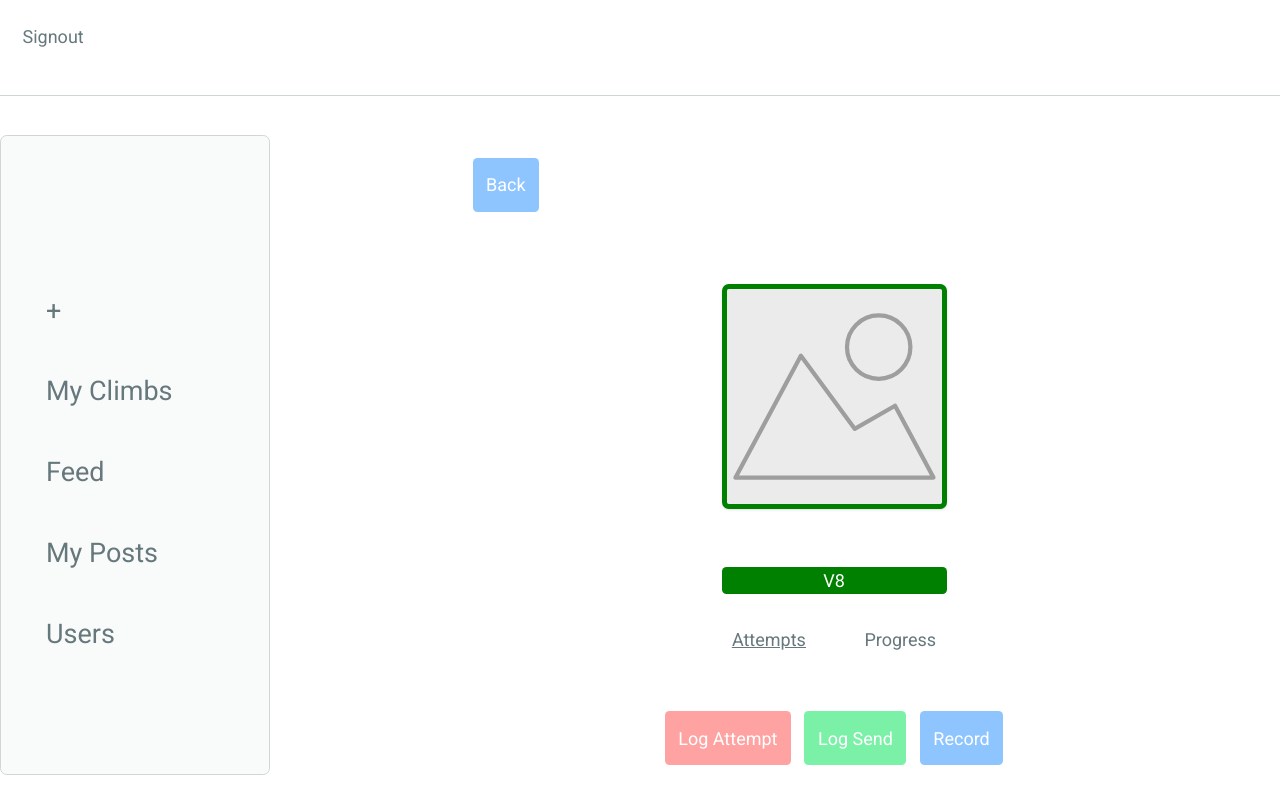
Test: attempts rendering › record modal works
Click the button "Record" at (962, 738), box [920, 711, 1003, 765]
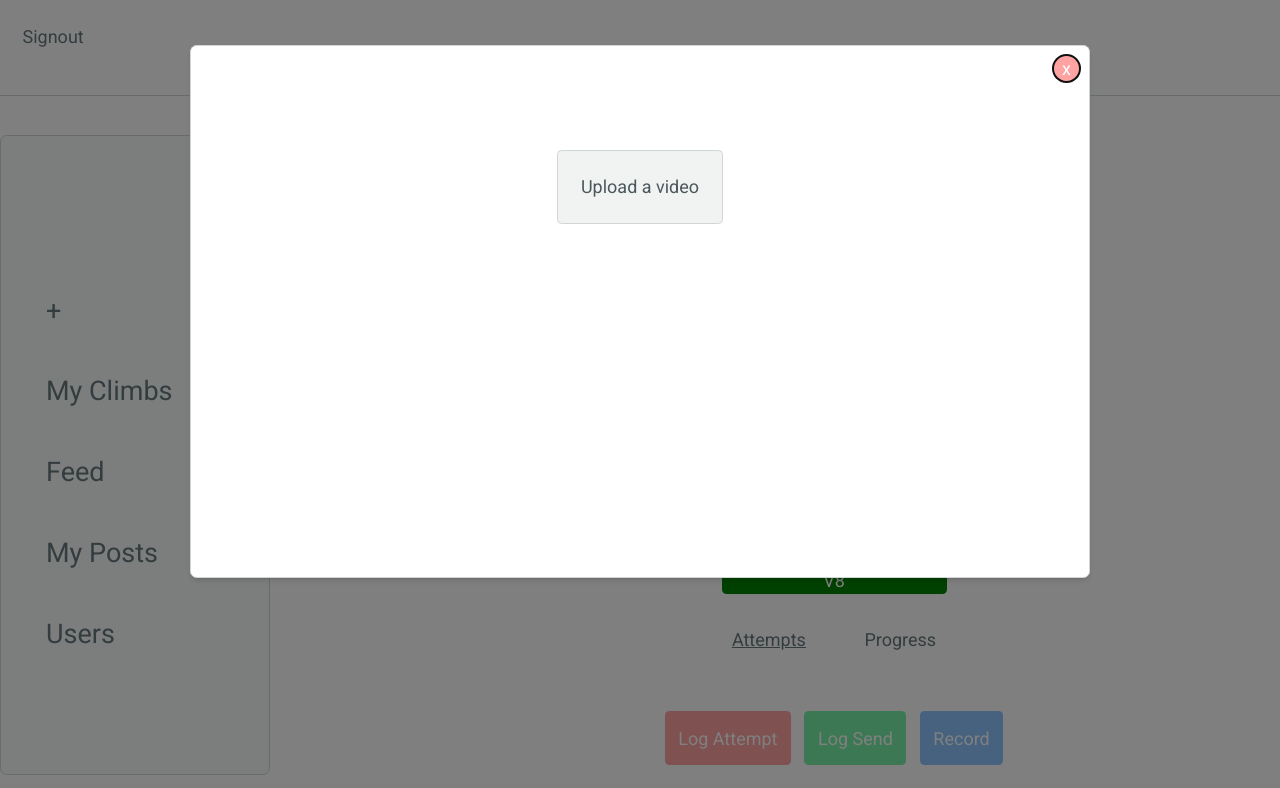
Expected: the file field labelled "Upload a video" is shown, [557, 150, 723, 224]
Click the button "x" at (1066, 68), box [1053, 55, 1080, 82]
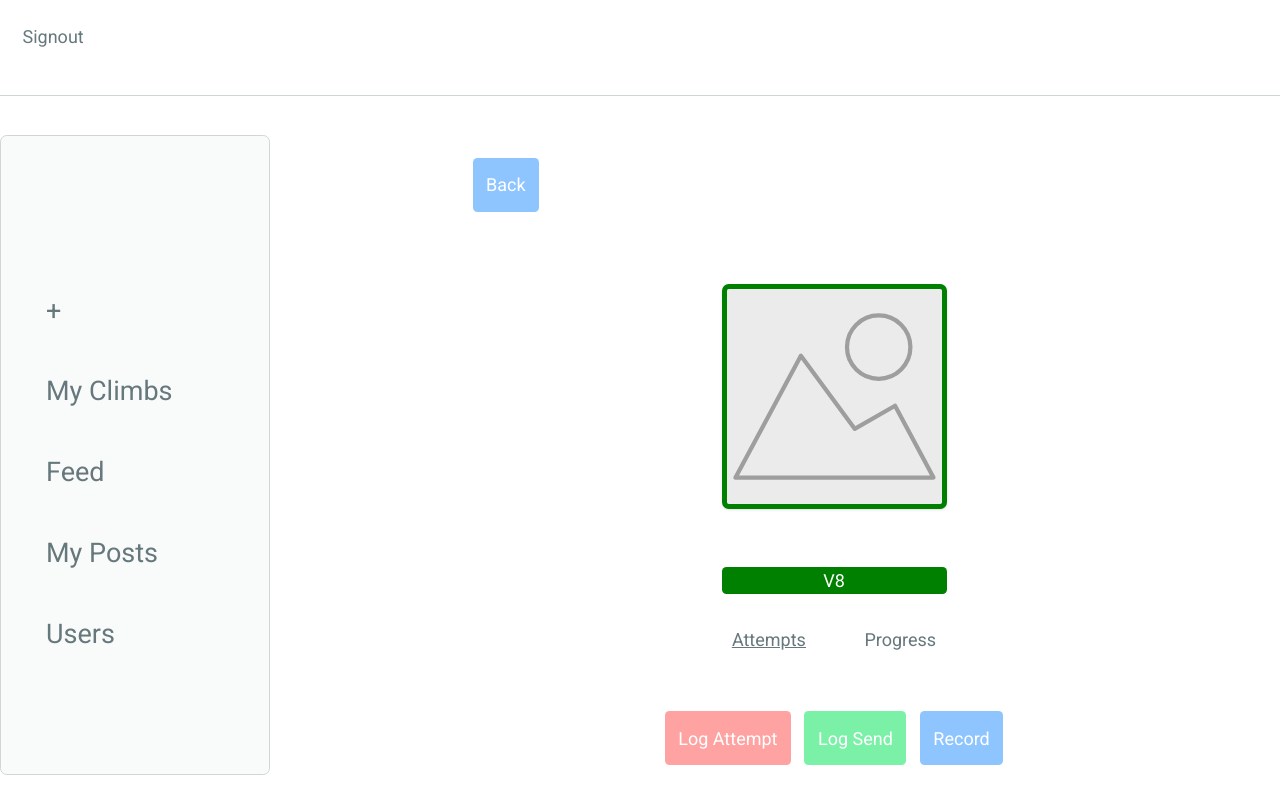
Expected: the file field labelled "Upload a video" is gone
